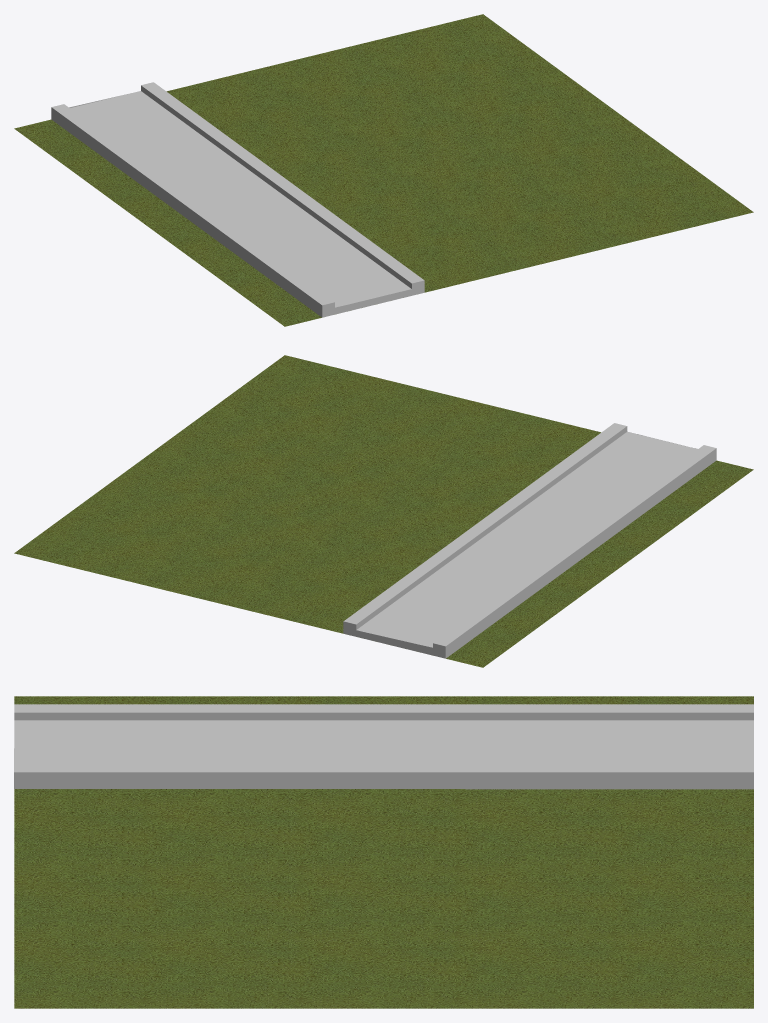
File: MapWithRoad.fbx
The picture shows the model from 3 angles, top to bottom: view 1: azimuth 30°, elevation 25°; view 2: azimuth 150°, elevation 25°; view 3: azimuth 270°, elevation 25°; orthographic projection. The views are drawn at different scales.
Parts seen in each view (by area): view 1: Grass, Road for cars, Whole road; view 2: Grass, Road for cars, Whole road; view 3: Grass, Road for cars, Whole road.
Part boxes in pixels (x1,y1,x2,y2): Grass: (14, 14, 753, 326); Road for cars: (70, 91, 411, 307); Whole road: (51, 82, 424, 317); Grass: (14, 355, 753, 667); Road for cars: (356, 431, 697, 647); Whole road: (343, 423, 716, 658); Grass: (14, 696, 753, 1008); Road for cars: (14, 720, 753, 763); Whole road: (14, 704, 753, 789).
Size of the model in its own units: 6197 by 157 by 6199.
